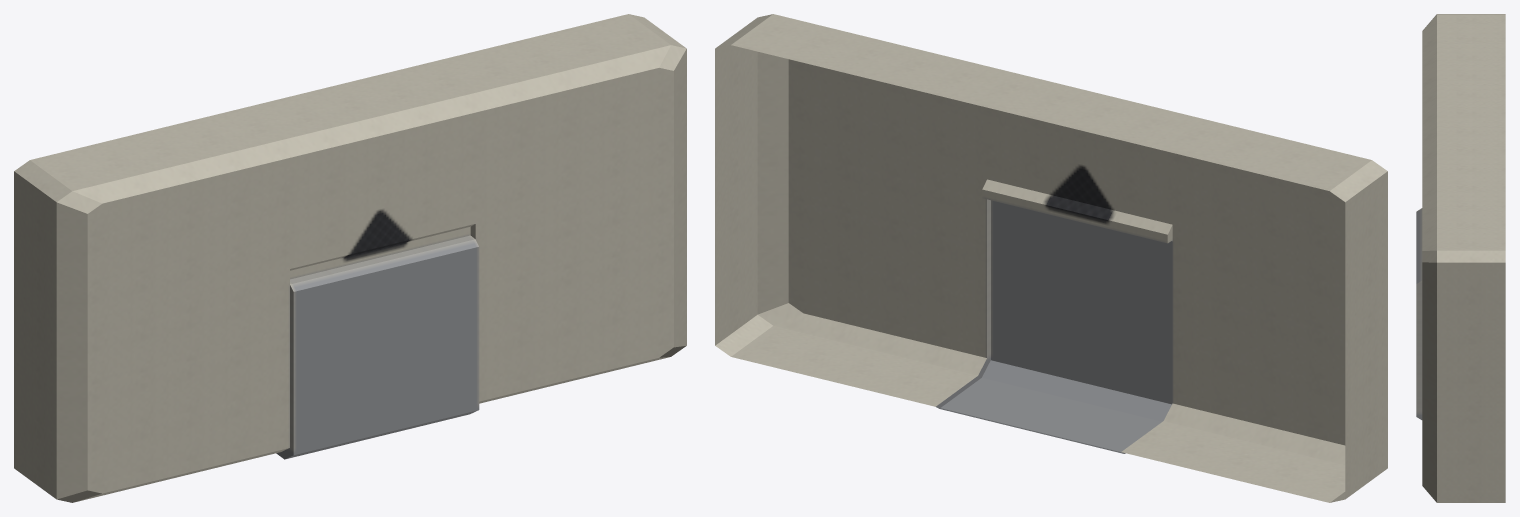
File: Wallblock4.fbx
3 renders of one model, left to right at view 1: azimuth 30°, elevation 25°; view 2: azimuth 150°, elevation 25°; view 3: azimuth 270°, elevation 25°, orthographic. The views are drawn at different scales.
Visible parts, largest first — view 1: block4; view 2: block4; view 3: block4.
Part boxes in pixels (box(x1,y1,x2,y2)): block4: box(14, 14, 686, 502); block4: box(715, 14, 1387, 502); block4: box(1416, 14, 1505, 502).
Size of the model in its own units: 73.74 by 35.39 by 11.2.
